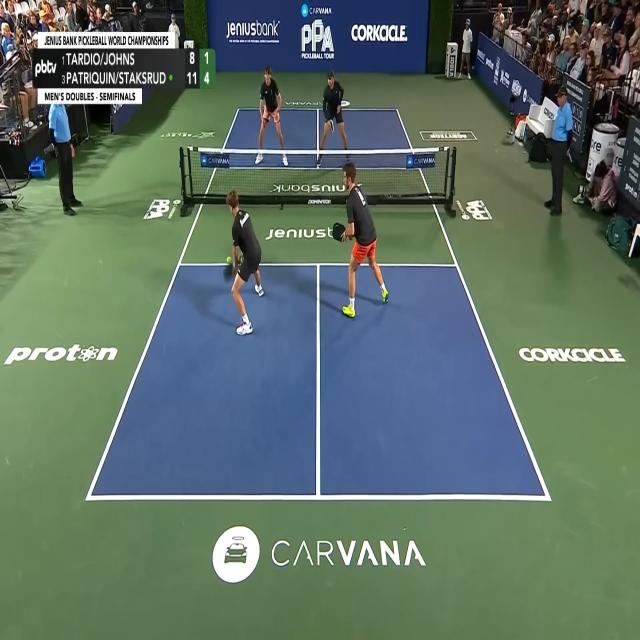ball: (226, 256, 231, 263)
